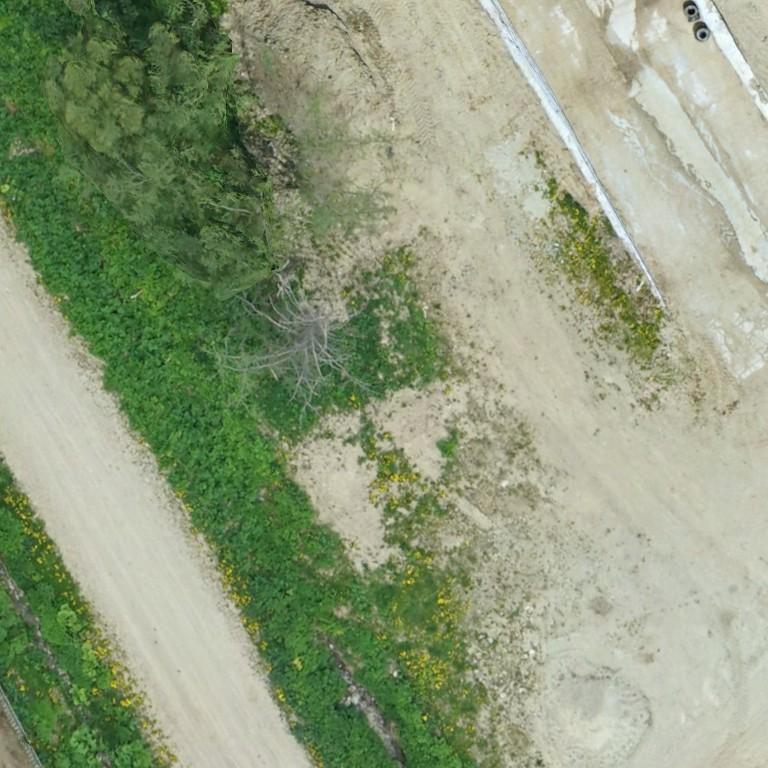hogweed: (1, 1, 455, 767)
